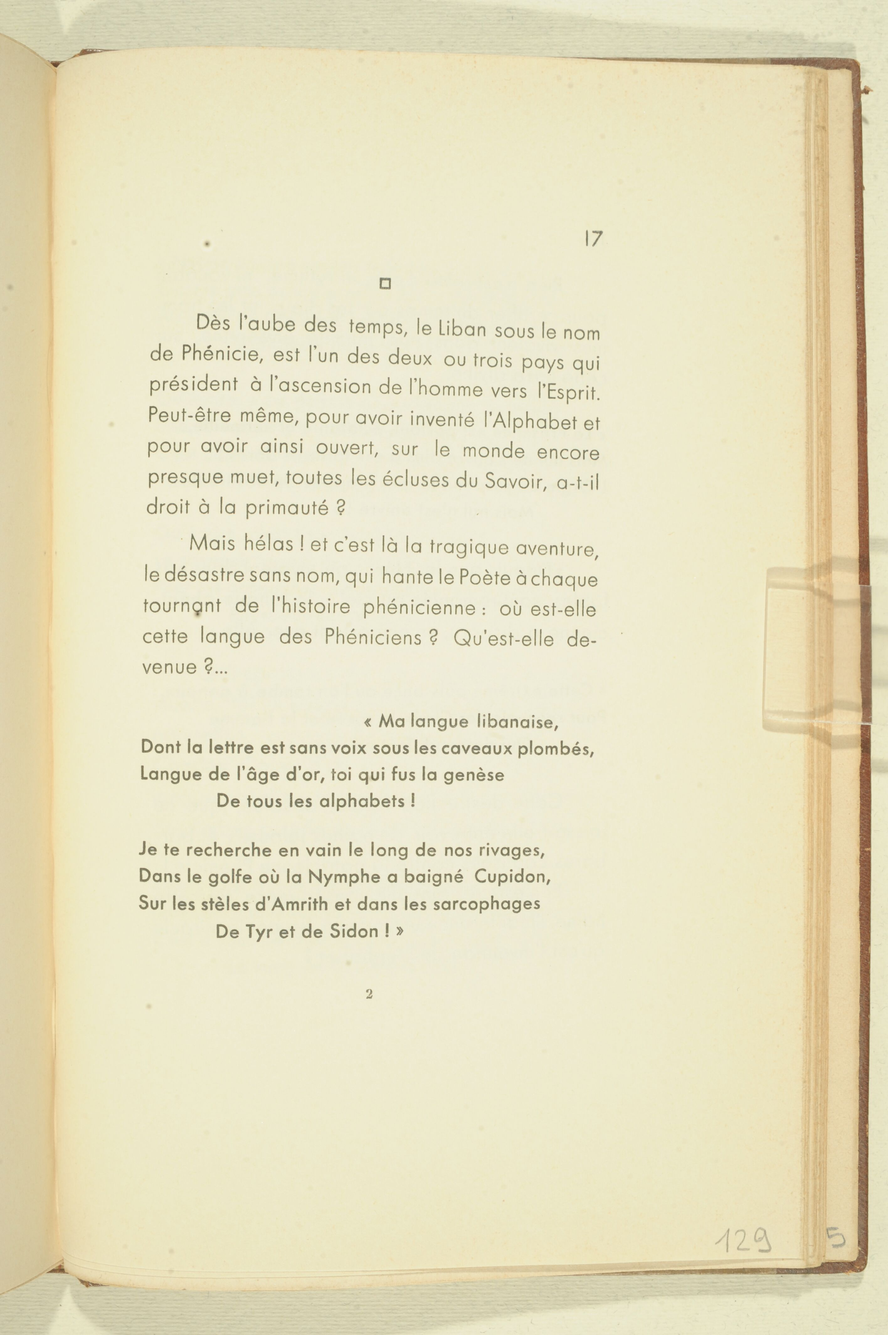InterligneAsterisque: (373, 268, 403, 293)
LigneDeProse: (136, 309, 631, 686)
N°Page: (700, 1226, 792, 1257), (579, 211, 611, 261), (360, 980, 382, 1007)
Vers: (138, 733, 615, 760), (134, 861, 566, 888), (131, 836, 560, 860), (136, 765, 527, 791), (135, 893, 563, 914), (207, 795, 426, 822), (355, 709, 577, 733), (207, 921, 429, 943)
